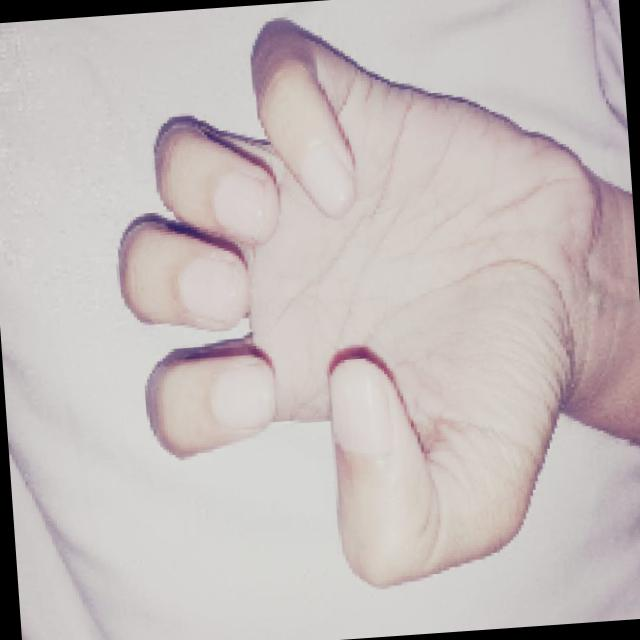Nail: (330, 357, 393, 453), (295, 139, 352, 214), (210, 362, 275, 427), (179, 256, 234, 320), (213, 172, 263, 240)
